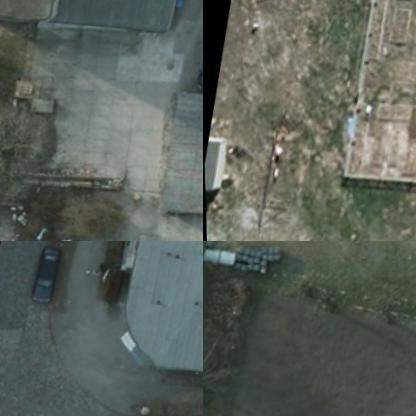car: (25, 250, 62, 311), (185, 36, 202, 102)
